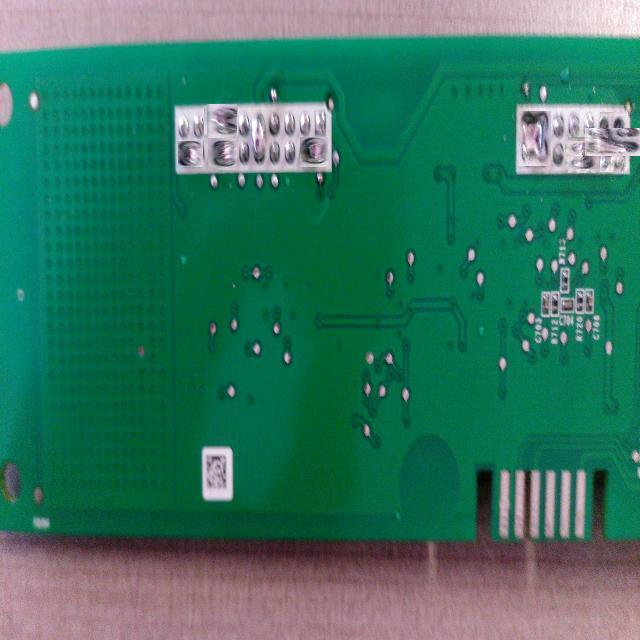Short_circuit: (592, 120, 636, 164), (518, 110, 551, 166), (205, 105, 238, 138), (251, 106, 268, 168), (566, 139, 598, 171), (206, 139, 238, 170), (299, 138, 329, 167), (178, 140, 204, 166)
